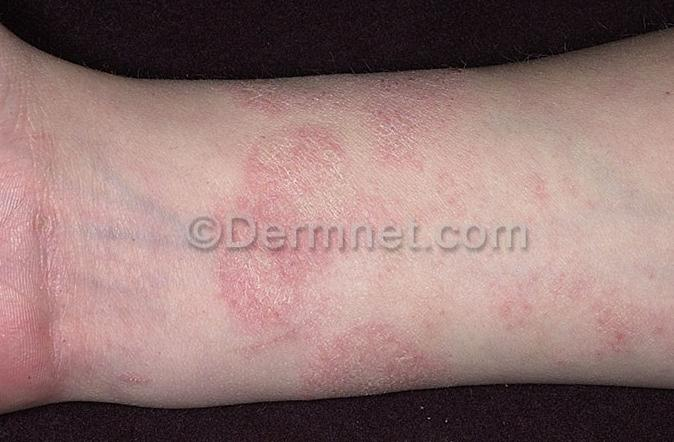eritema 1: (220, 74, 454, 423), (511, 262, 674, 391)
excoriacion 1: (226, 133, 369, 341), (303, 321, 448, 416)
xerosis 1: (206, 53, 502, 419)
